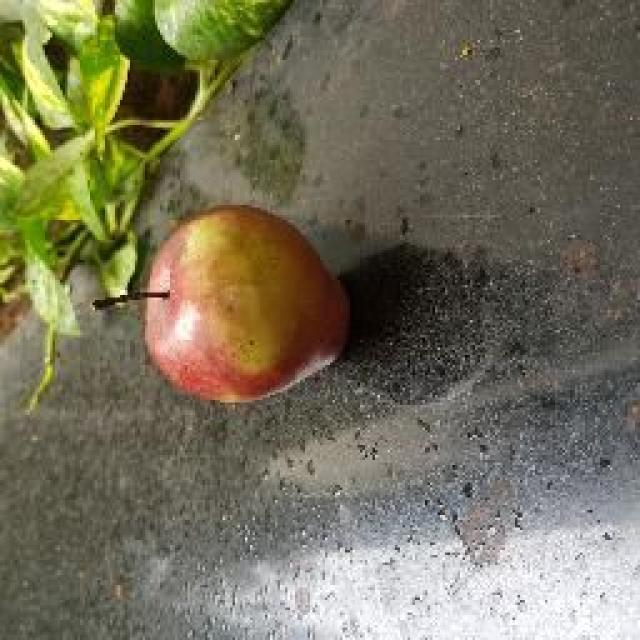Good_Apple: (125, 205, 352, 405)
